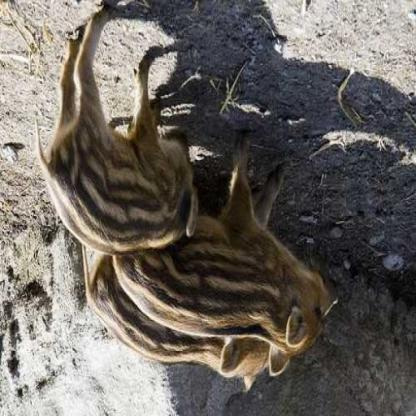boar: (96, 133, 369, 351), (16, 4, 224, 260)
